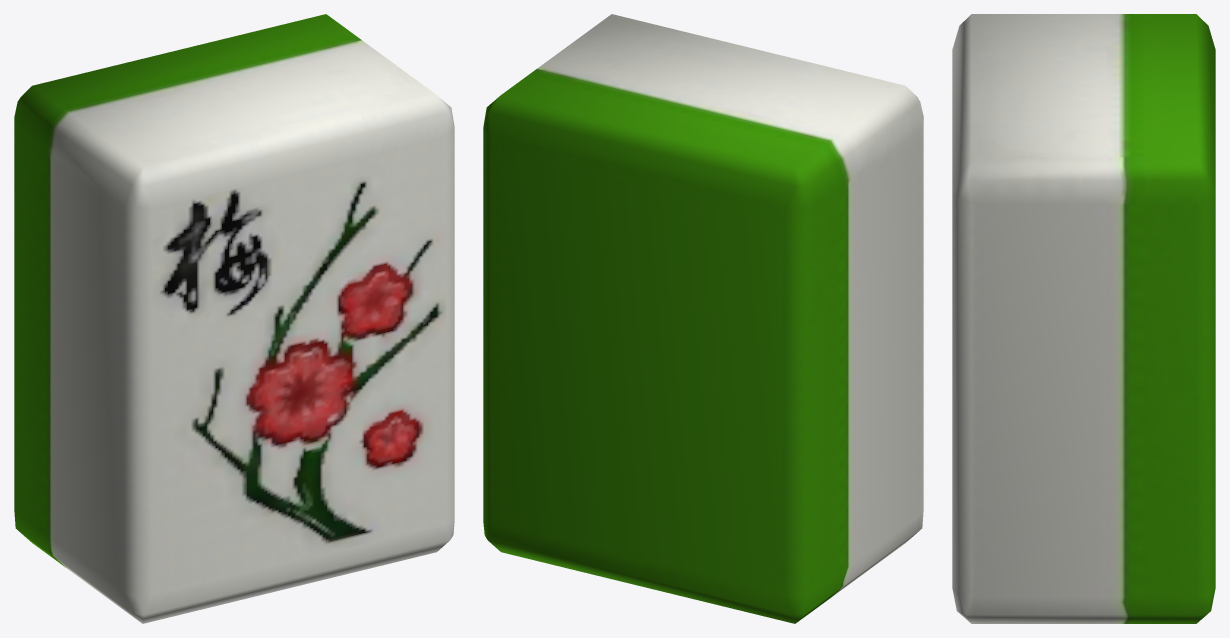
Rendered from mj_hua5.FBX.
3 views of the same model, side by side, from view 1: azimuth 30°, elevation 25°; view 2: azimuth 150°, elevation 25°; view 3: azimuth 270°, elevation 25° (orthographic).
Visible parts, largest first — view 1: default007; view 2: default007; view 3: default007.
Boxes of the visible parts, box(x1,y1,x2,y2) form: default007: box(14, 14, 454, 623); default007: box(483, 14, 923, 623); default007: box(952, 14, 1215, 623).
Size of the model in its own units: 0.0339 by 0.045 by 0.0232.
Materials: 1 (1 with a texture image).
